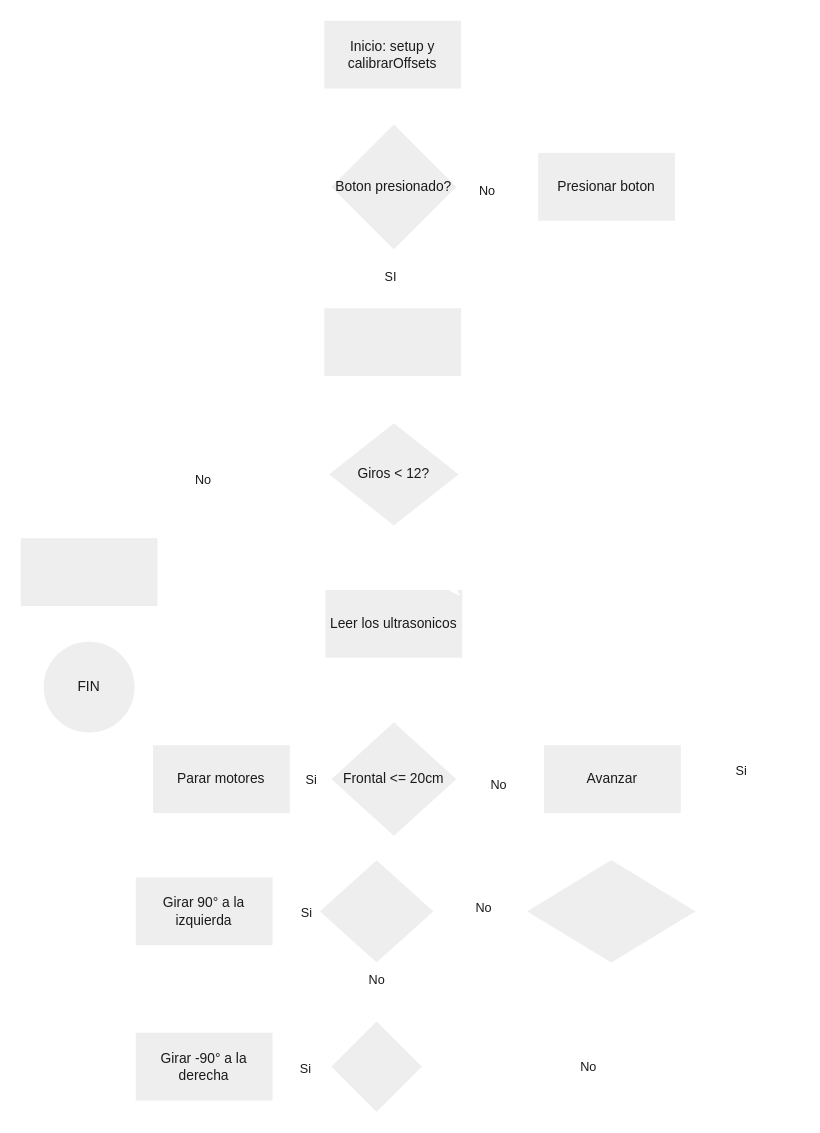
This 820x1133 diagram has some shape labels left out. The centre of each missing label's shape, as x and y in pixels:
"Avanzar 700ms y detenerse" belongs at (88,571).
"Derecha > 120cm?" belongs at (376,1066).
"Iniciar Programa" belongs at (392,341).
"Izquierda > 120cm?" belongs at (376,910).
"Tiempo transcurrido desde el último giro < 1s?" belongs at (610,910).
